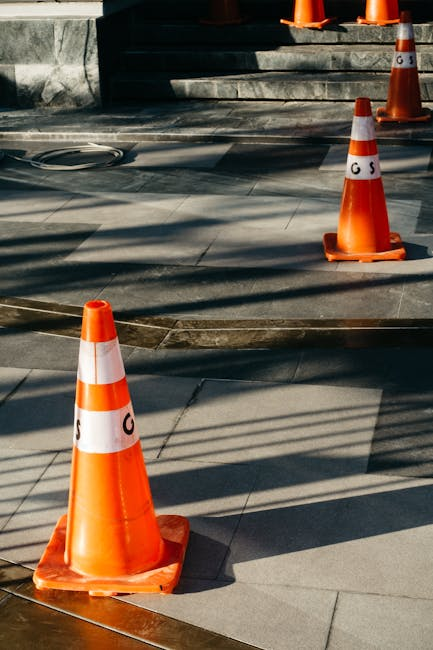traffic_cone: (32, 298, 191, 597), (322, 96, 407, 263), (375, 9, 433, 124), (279, 0, 337, 30), (199, 0, 246, 26), (356, 0, 401, 26)
